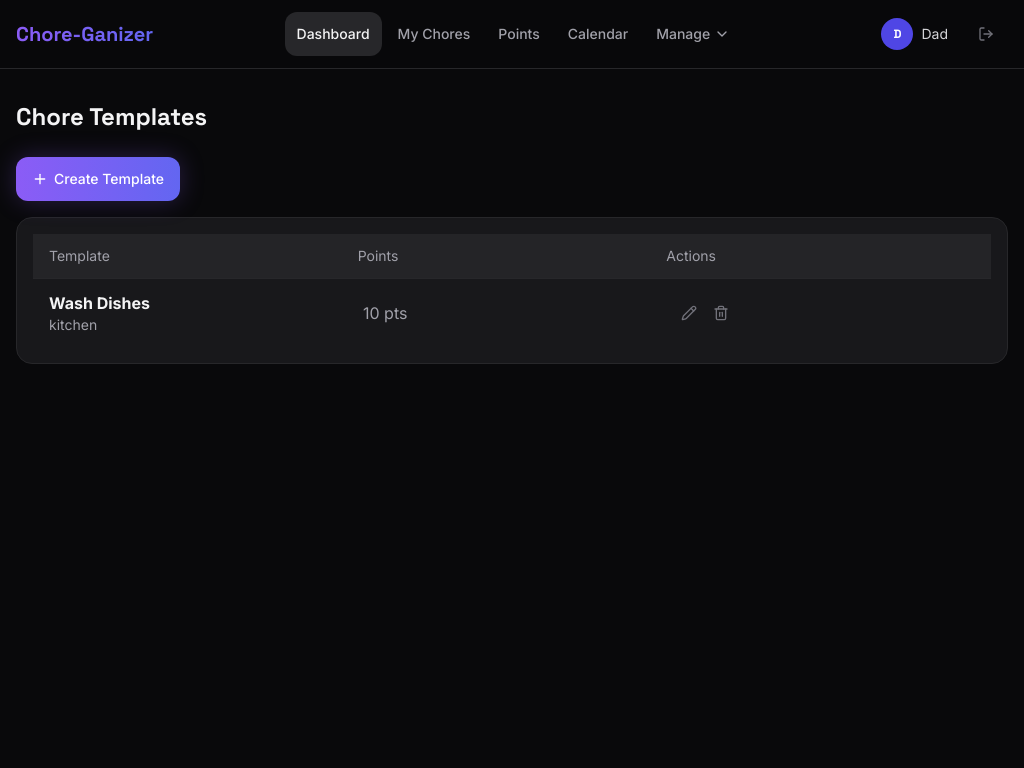
TemplatesPage › shows edit form with pre-filled values
The width and height of the screenshot is (1024, 768).
What coordinates should you click on to do the following:
click the button named "Edit template"
I would click on:
 (689, 313)
Its box is [677,301,701,325].
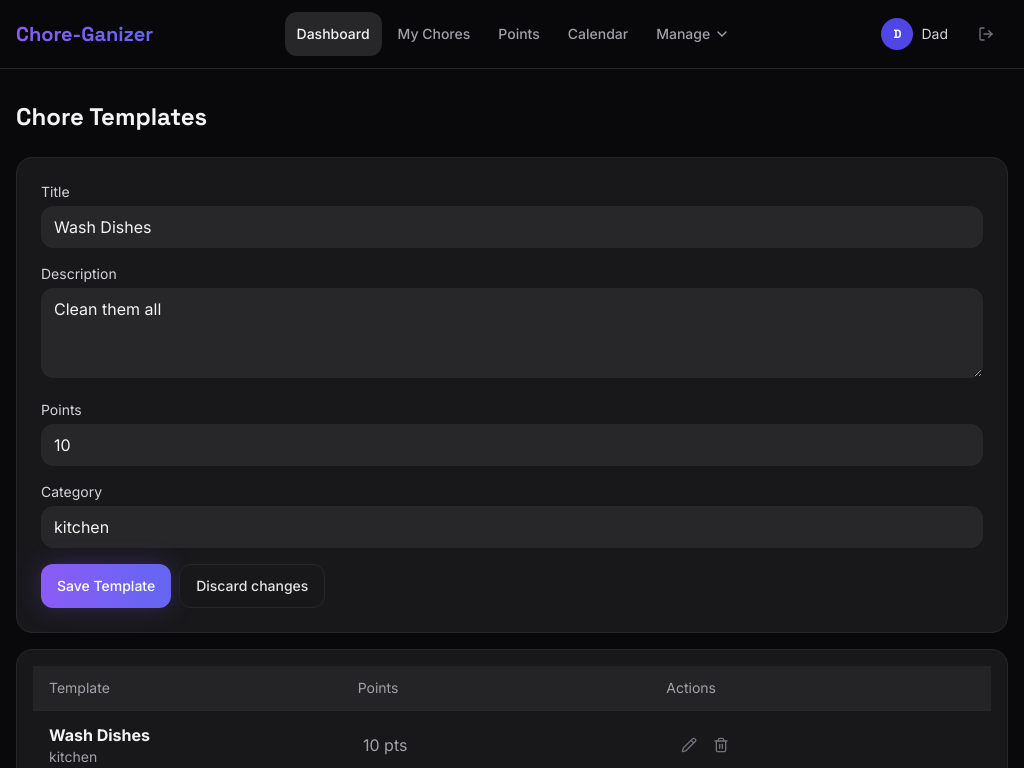
Now the field showing "Wash Dishes" is shown, box [41,206,983,248]
Now the number field showing "10" is shown, box [41,424,983,466]
